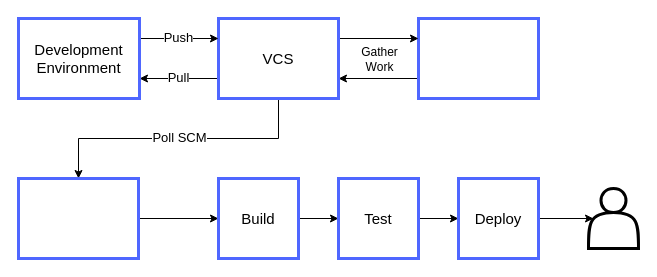
Image size: 657x277. Some labels were removed from this diagram. The centre of each missing label's shape, as x and y in pixels:
"CI Server" belongs at (78,218).
"Project Tracking Software" belongs at (478,58).
